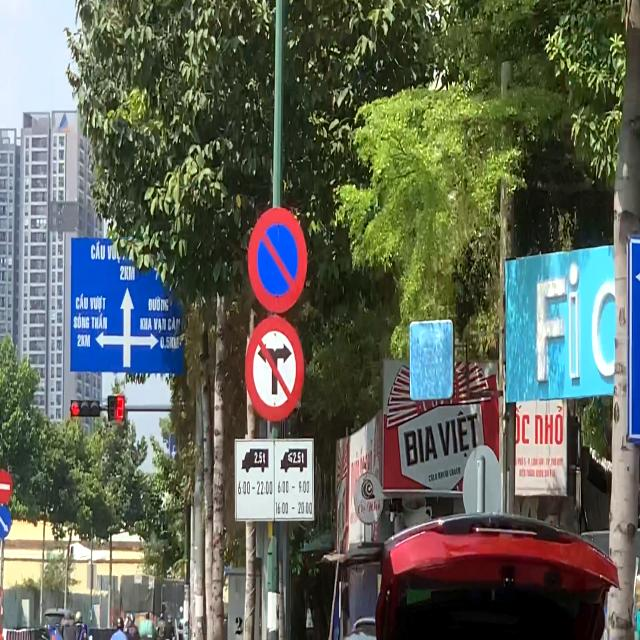P.102: (0, 469, 12, 504)
P.131a: (248, 207, 308, 314)
P.137: (244, 316, 305, 422)
R.302a: (0, 503, 11, 539)
